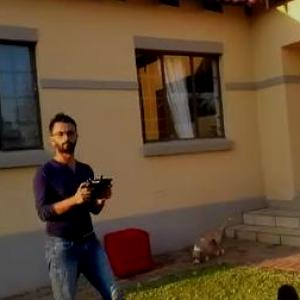follow: (28, 109, 142, 299)
null: (188, 211, 241, 269), (277, 278, 300, 298)
